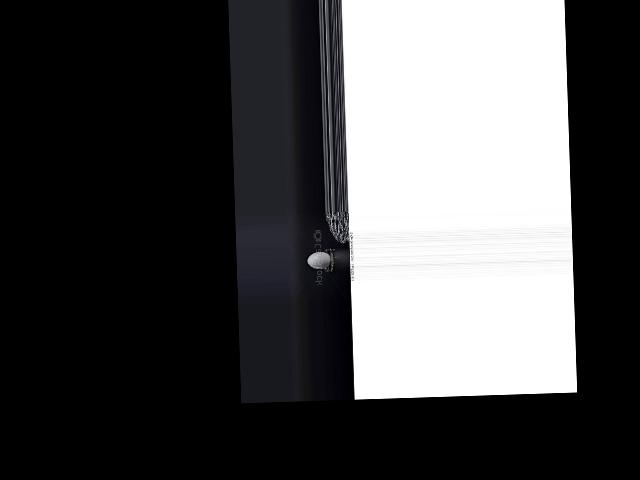egg: (307, 251, 331, 269)
